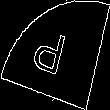P_S: (34, 25, 76, 85)
